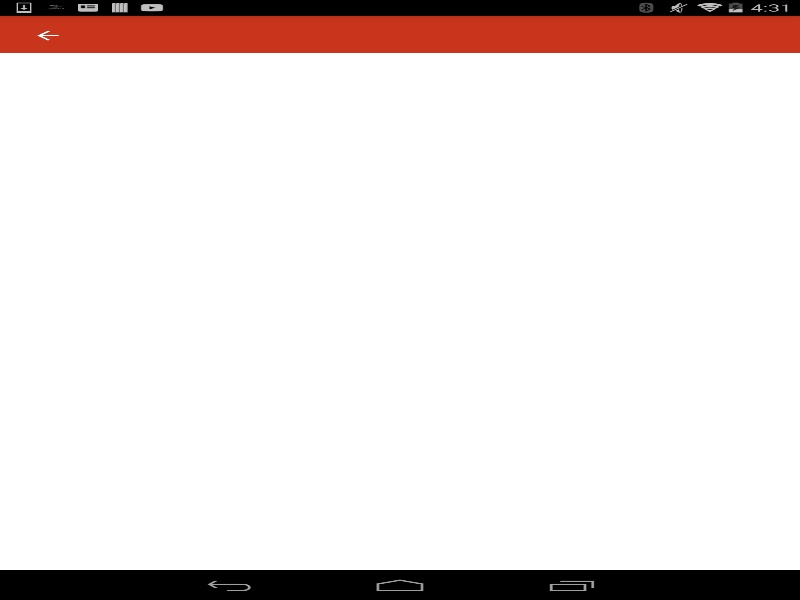Button: (10, 15, 85, 55), (685, 64, 774, 79)
Input: (21, 101, 778, 140)
